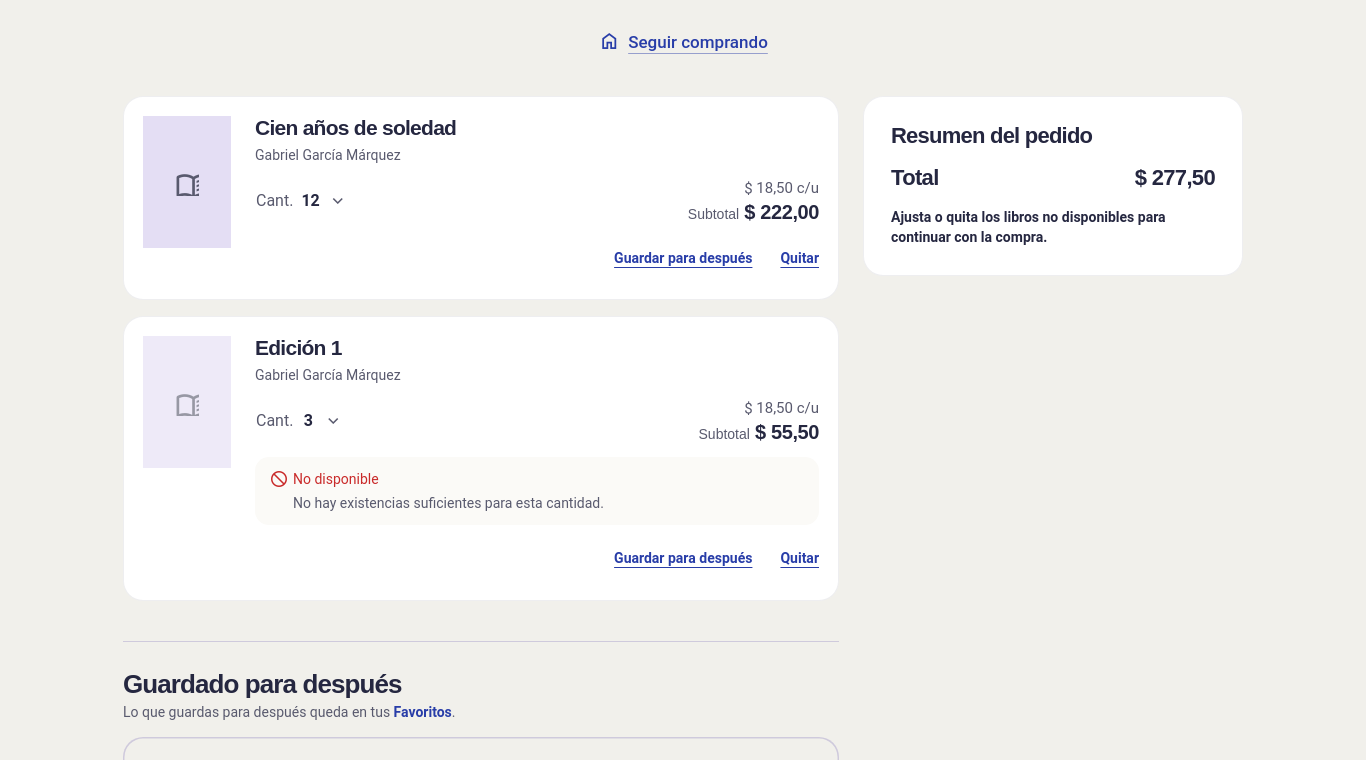
Scenario: CartPage › keeps a quantity above ten selectable and stops at the current one when stock cannot grow
Expected: the dropdown named "Cantidad de Cien años de soledad" shows "12", [245,179,355,223]
Click the dropdown named "Cantidad de Edición 1": (298, 421) [245,399,350,443]
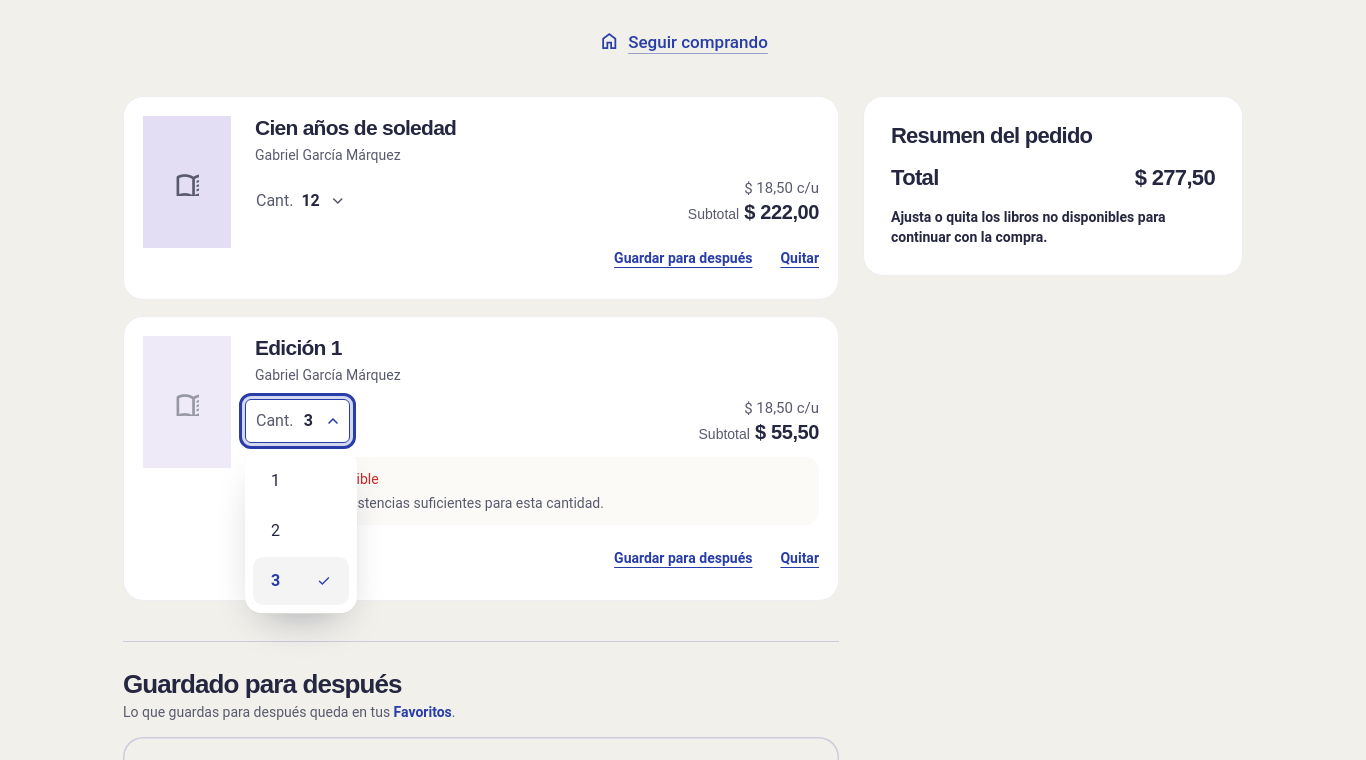
Press Escape
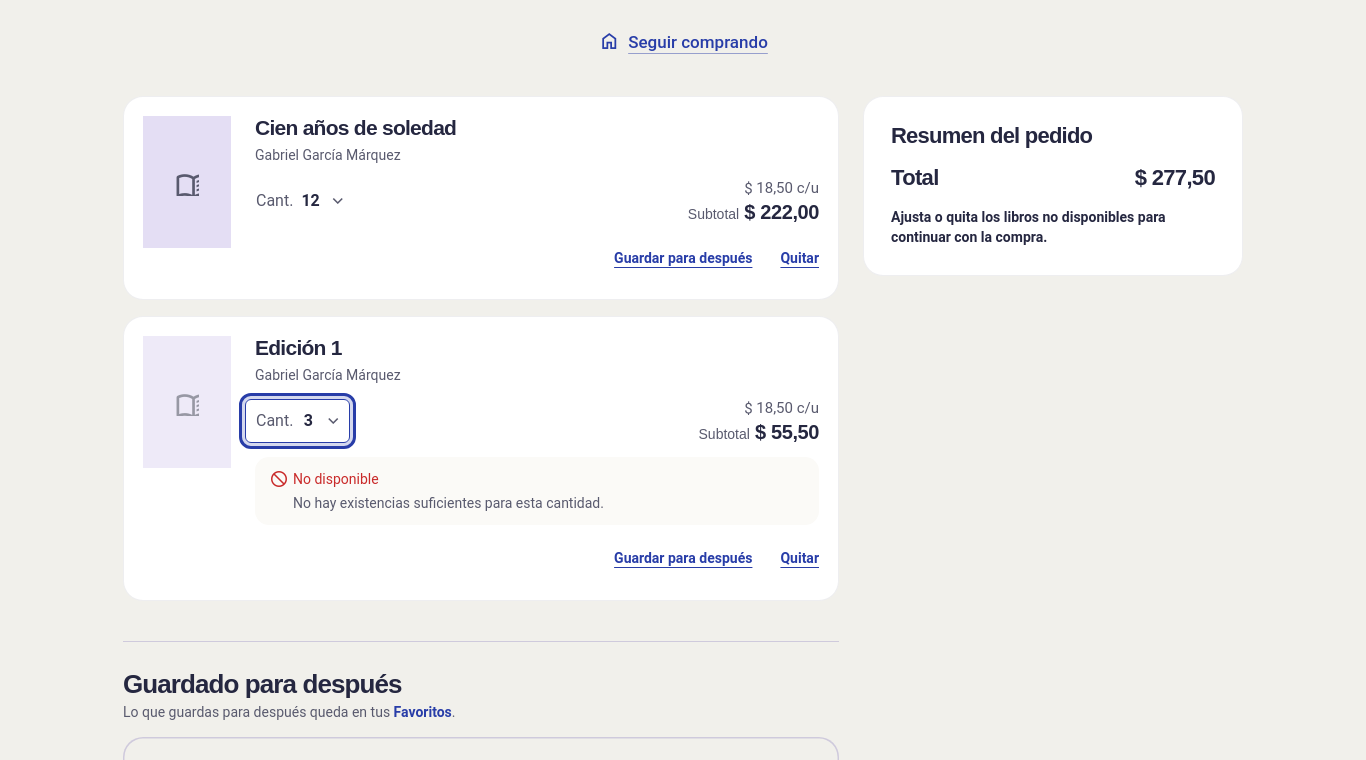
Result: the option is gone
